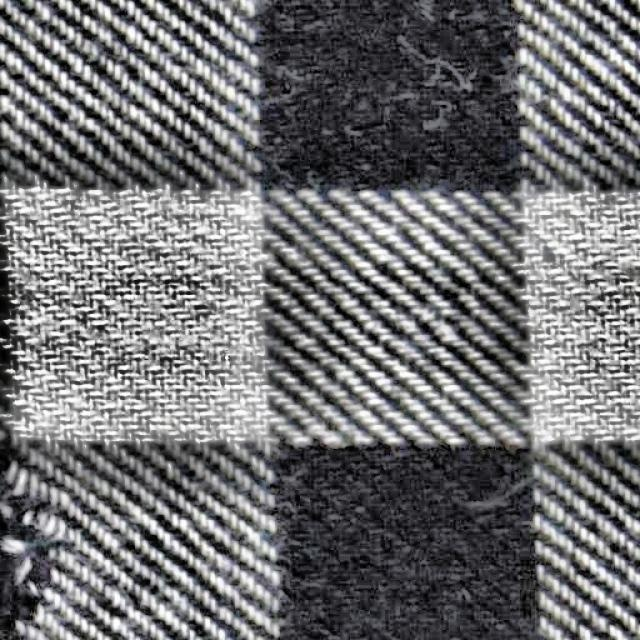Stitch: (0, 414, 99, 640)
